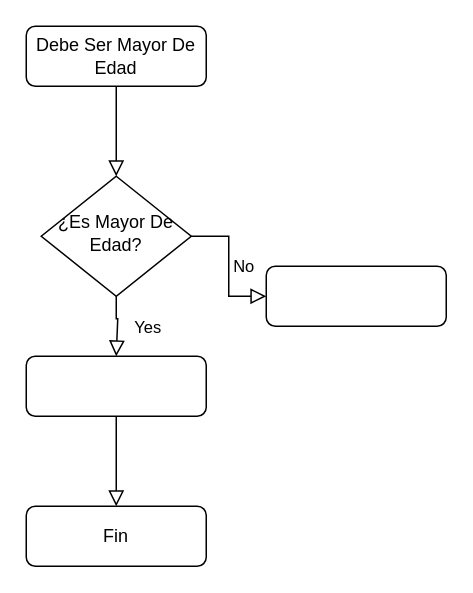
This 473x593 diagram has some shape labels left out. The shapes that lost their labels are listed below. From the top down, each one's centre as x and y in pixels, then its label:
[355,295]: La persona es menor de edad
[115,385]: Es Mayor De Edad
